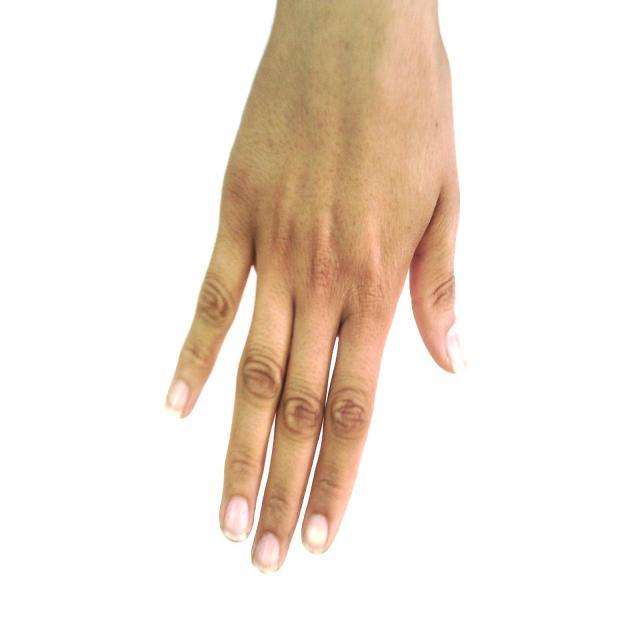Fingernail: (224, 497, 250, 540), (255, 533, 280, 572), (304, 514, 328, 552), (447, 328, 465, 371), (167, 380, 187, 413)
